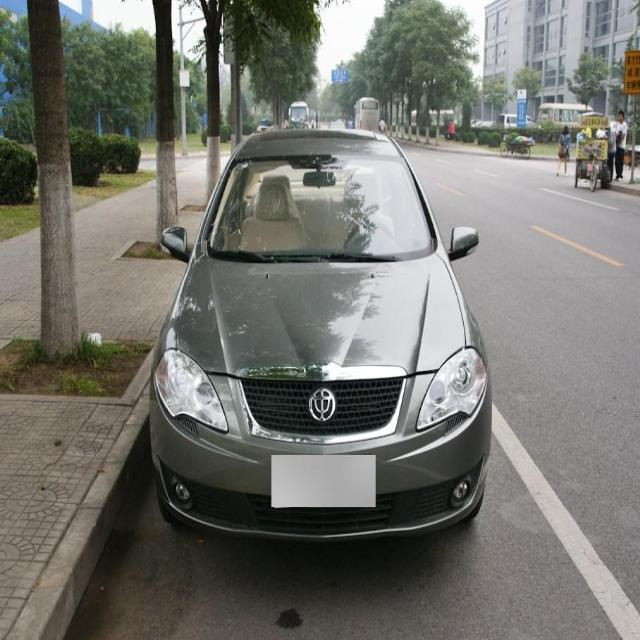front_bumper: (146, 371, 490, 545)
front_glass: (206, 151, 438, 262)
front_left_side_light: (413, 342, 488, 432)
front_left_side_mirror: (443, 223, 481, 265)
front_right_side_light: (152, 343, 234, 438)
front_right_side_mirror: (159, 218, 196, 276)
